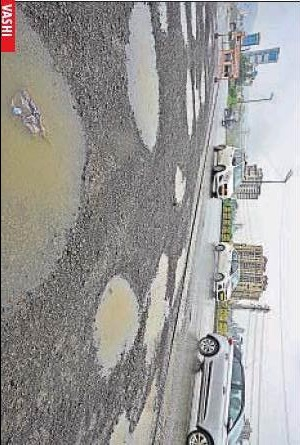pothole: (1, 0, 91, 314), (123, 0, 164, 152), (92, 271, 141, 374), (141, 254, 173, 360), (184, 70, 196, 136), (173, 165, 189, 205), (189, 0, 200, 44), (180, 0, 190, 44), (200, 66, 208, 106)
